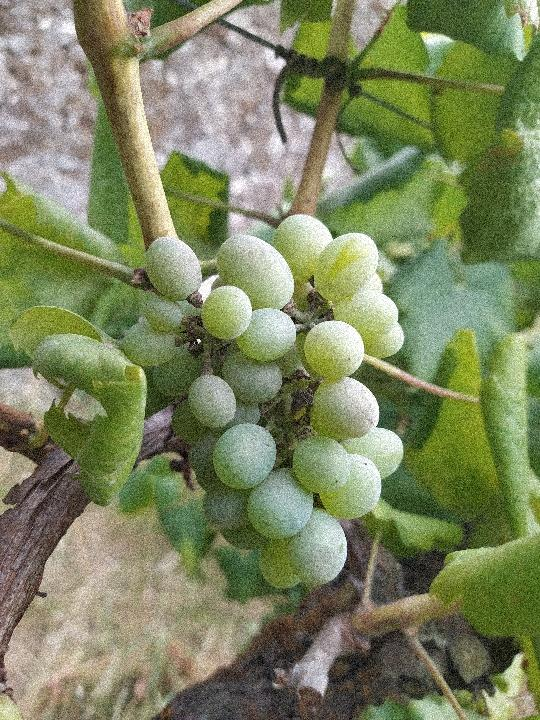grape: (119, 211, 408, 593)
